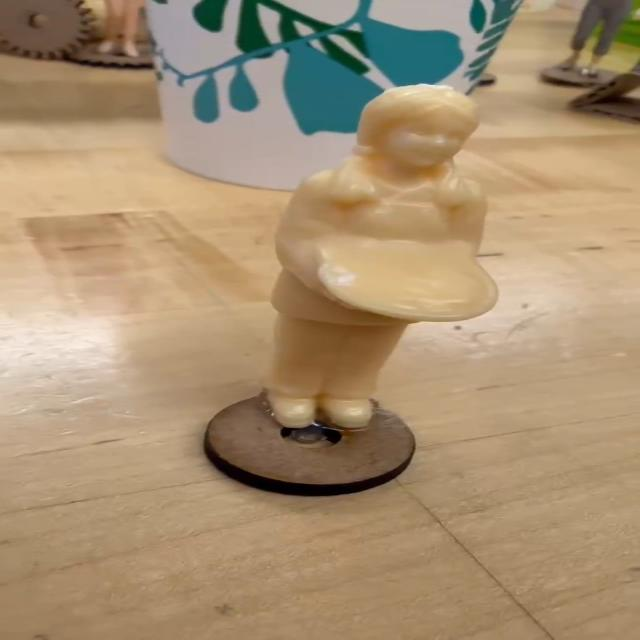Unauthorized: (266, 80, 499, 432)
